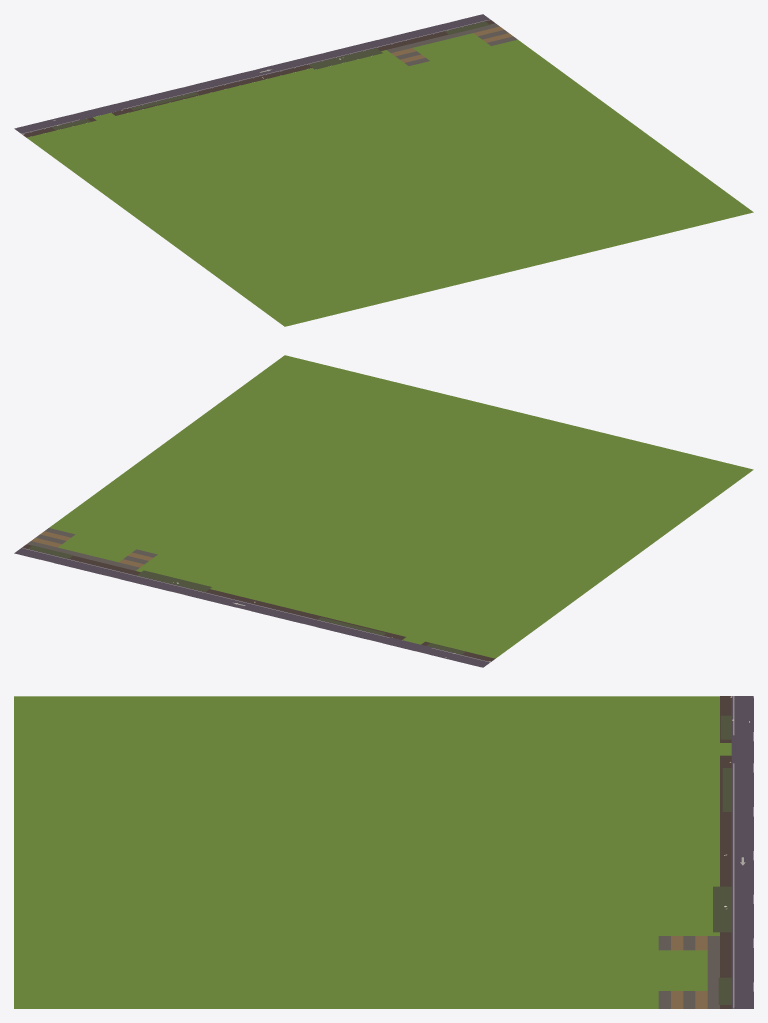
File: cure-10-3.glb
3 renders of one model, top to bottom at view 1: azimuth 30°, elevation 25°; view 2: azimuth 150°, elevation 25°; view 3: azimuth 270°, elevation 25°, orthographic. The views are drawn at different scales.
Parts seen in each view (by area): view 1: cure-10-3; view 2: cure-10-3; view 3: cure-10-3.
Boxes of the visible parts, box(x1,y1,x2,y2) form: cure-10-3: box(14, 14, 753, 326); cure-10-3: box(14, 355, 753, 667); cure-10-3: box(14, 696, 753, 1008).
Size of the model in its own units: 100 by 0.017 by 100.
